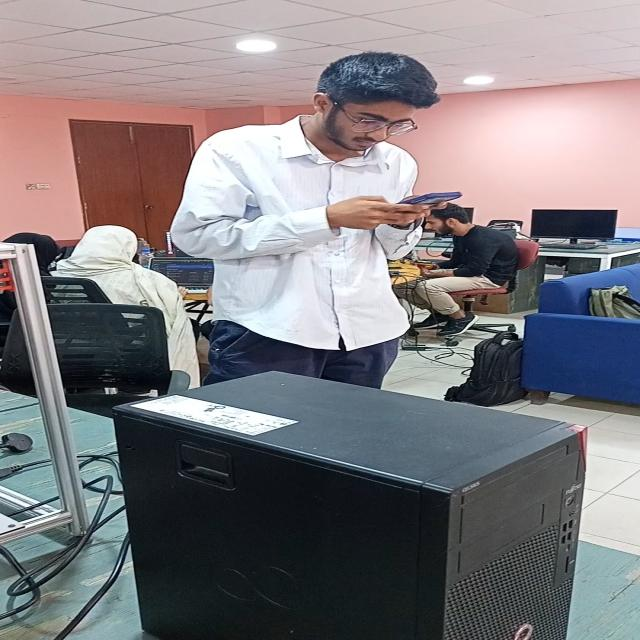dress: (153, 114, 456, 374)
glasses: (329, 105, 432, 133)
